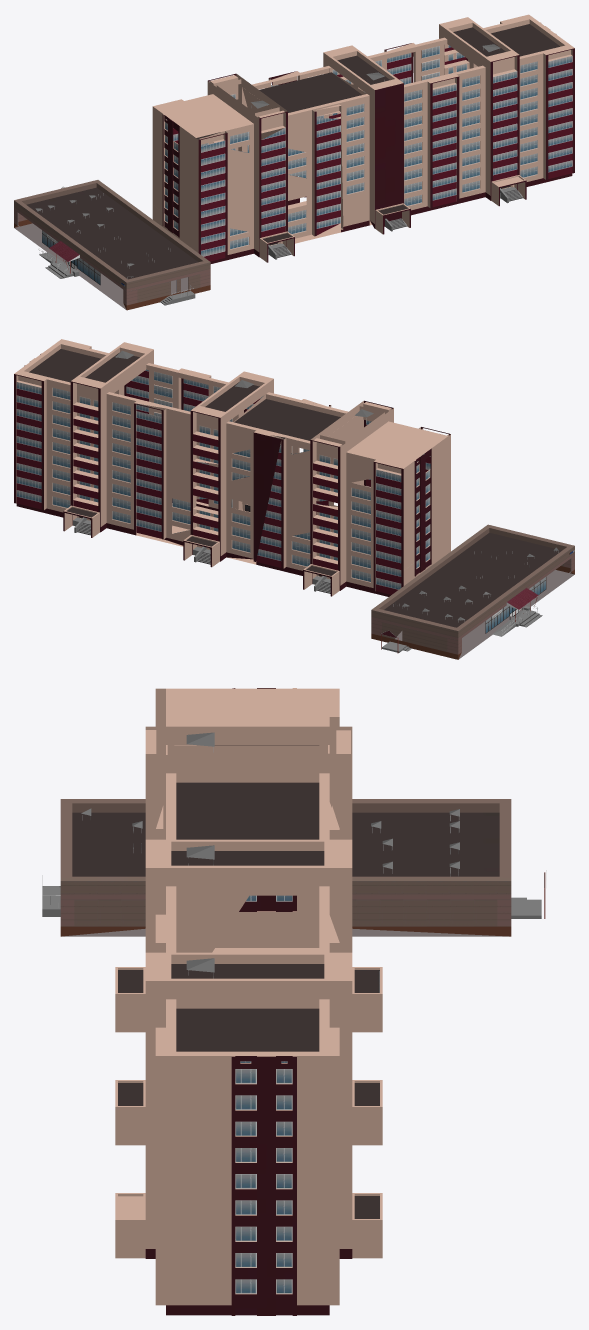
Rendered from sf_shop_3.glb.
3 renders of one model, top to bottom at view 1: azimuth 30°, elevation 25°; view 2: azimuth 150°, elevation 25°; view 3: azimuth 270°, elevation 25°, orthographic. The views are drawn at different scales.
Parts seen in each view (by area): view 1: Object_5, Object_9, Object_12, Object_8; view 2: Object_5, Object_9, Object_12, Object_8, Object_11; view 3: Object_5, Object_9, Object_8, Object_12.
Boxes of the visible parts, x1=… form: Object_5: x1=152, y1=14, x2=574, y2=263; Object_9: x1=14, y1=180, x2=210, y2=310; Object_12: x1=39, y1=187, x2=523, y2=305; Object_8: x1=35, y1=44, x2=500, y2=276; Object_5: x1=14, y1=339, x2=450, y2=596; Object_9: x1=371, y1=524, x2=574, y2=659; Object_12: x1=73, y1=517, x2=542, y2=652; Object_8: x1=115, y1=350, x2=558, y2=620; Object_11: x1=380, y1=588, x2=538, y2=638; Object_5: x1=115, y1=688, x2=382, y2=1315; Object_9: x1=60, y1=799, x2=511, y2=936; Object_8: x1=81, y1=732, x2=459, y2=972; Object_12: x1=42, y1=886, x2=541, y2=918.
Bounding box in the file's own units: 25.58 × 7 × 11.41.
8 materials, 5 textured.
